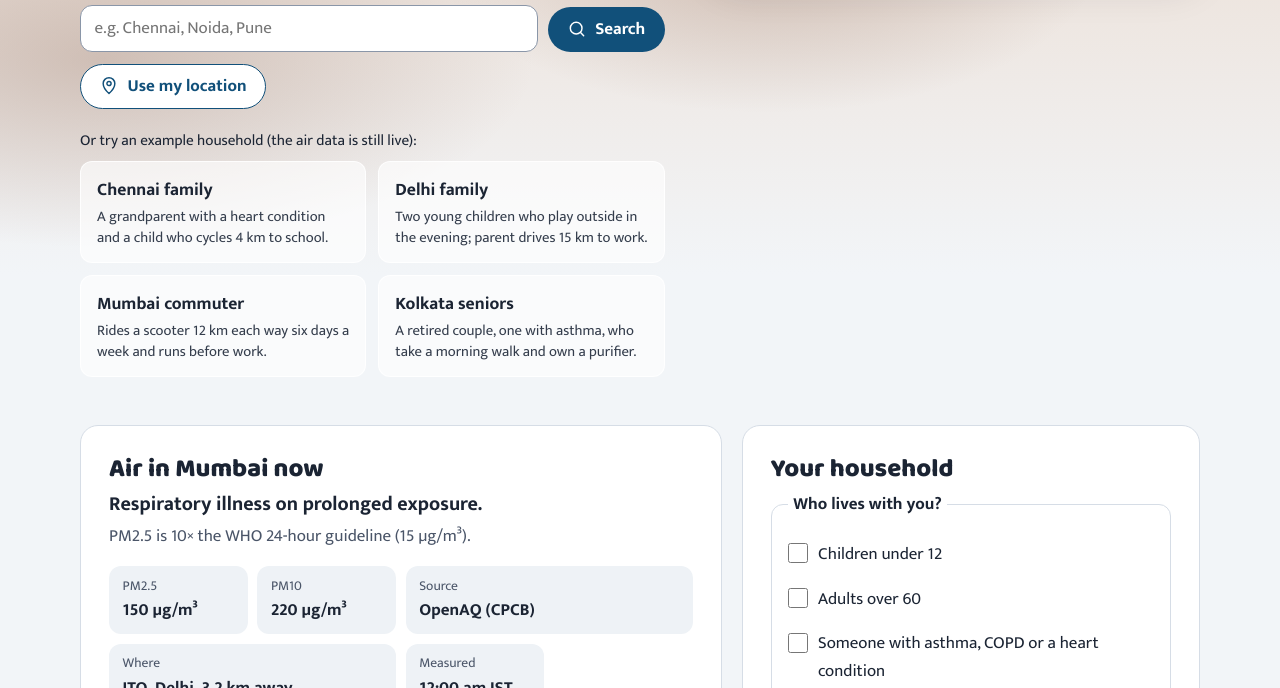
Test: AssistantApp › shows when a plan request fails
(page scrolled)
What coordinates should you click on to do the following:
click the button "Kolkata seniors"
I would click on:
 (522, 326)
Its box is [378, 275, 665, 377].
(page scrolled)
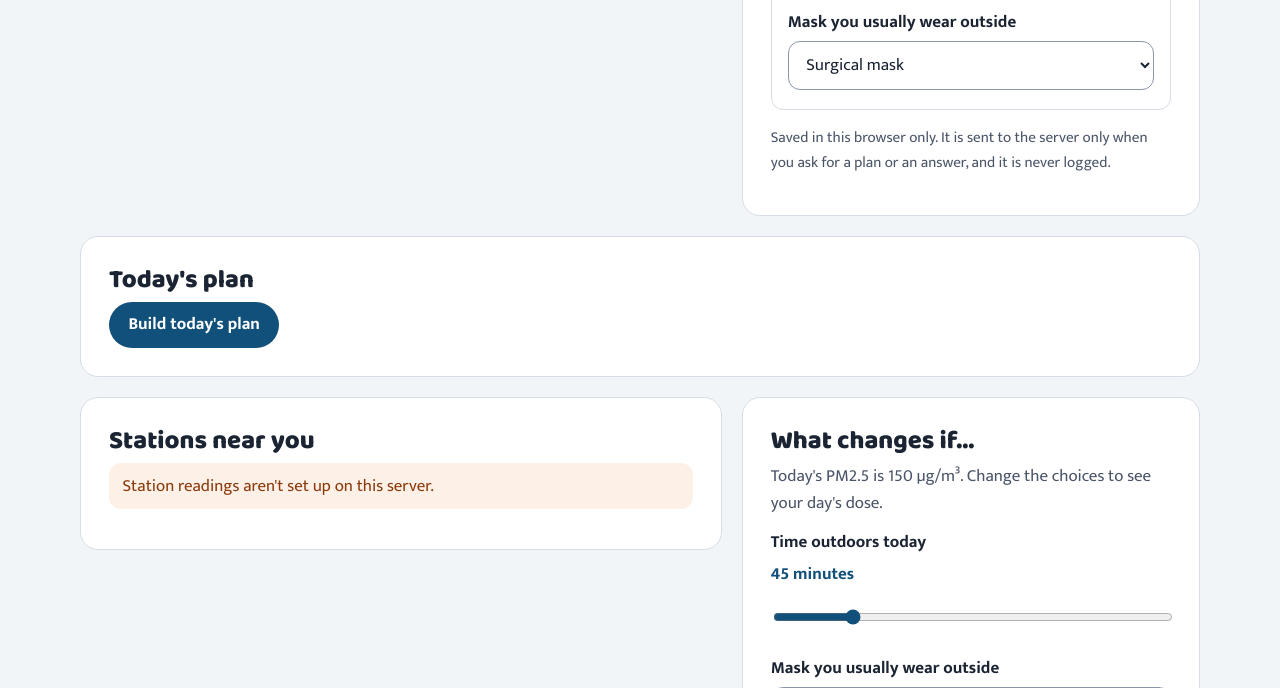
What coordinates should you click on to do the following:
click the button "Build today's plan"
I would click on:
 (194, 325)
Its box is [109, 302, 279, 348].
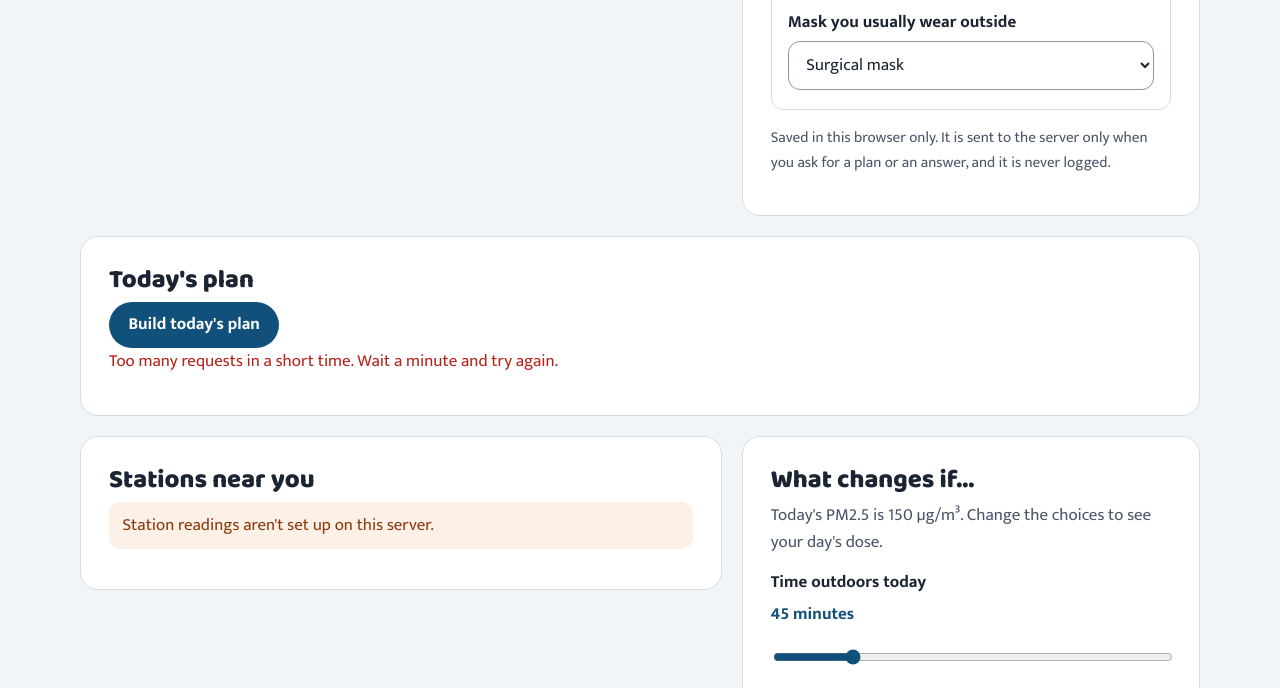
Check: the text "Too many requests in a short time. Wait a minute and try again." is shown, box [109, 347, 558, 375]
